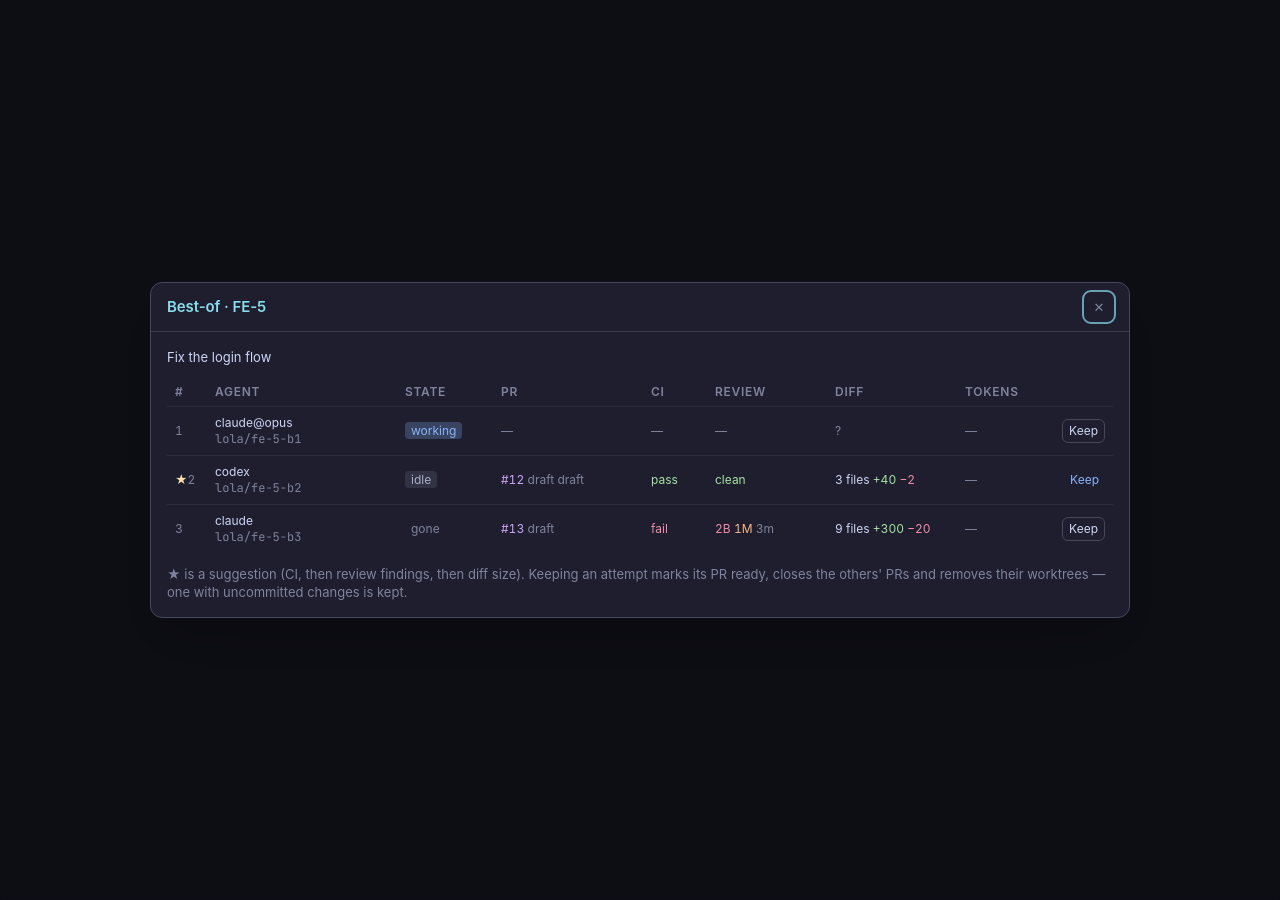
Test: BestOfOverlay › lists the steps a pick could not complete instead of claiming success
Expected: the text "claude@opus" is shown, [215,415,292,430]
Click the button "Keep" in the row of "codex" at {"x": 1085, "y": 480}, box [1064,468,1105,492]
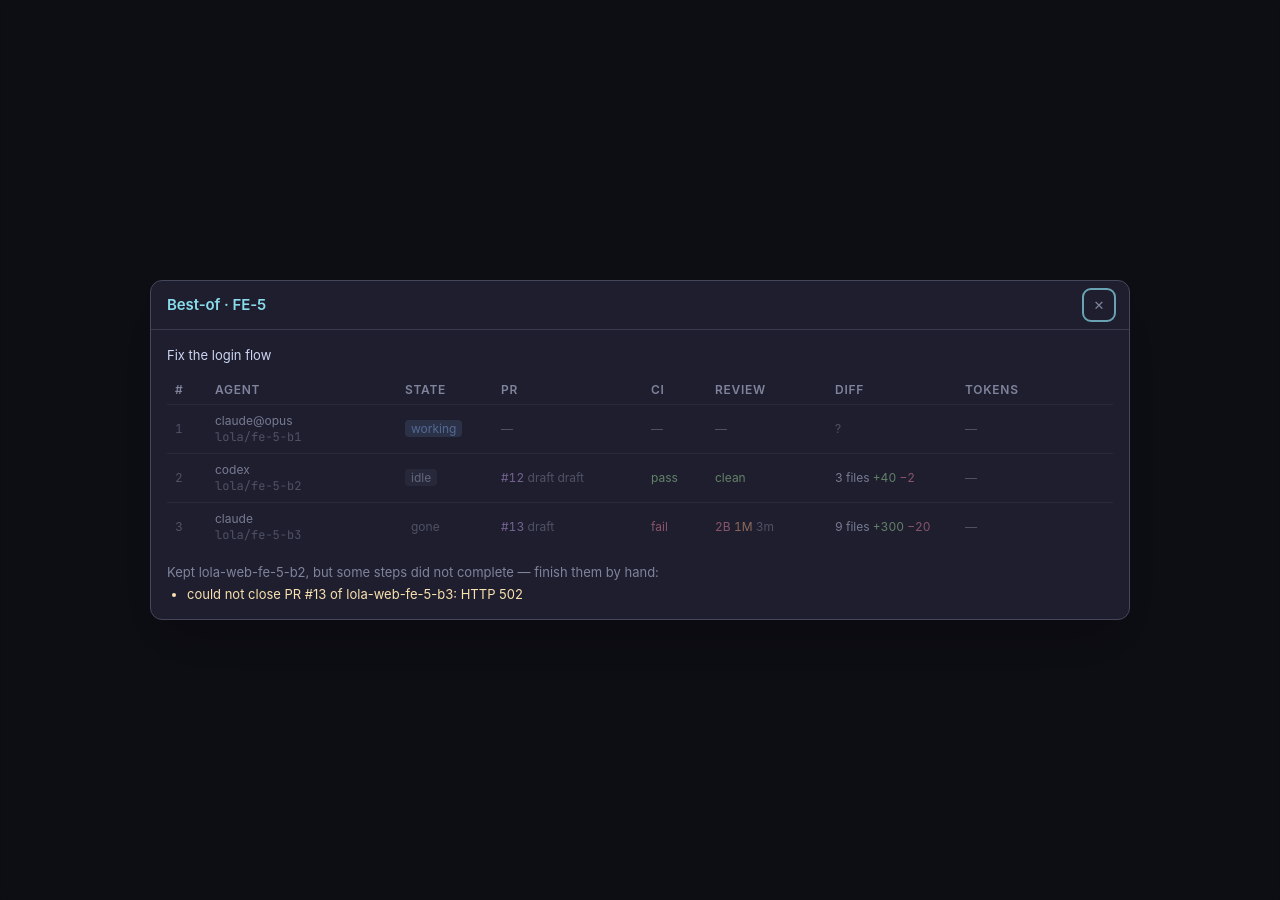
Expected: the list item "could not close PR #13 of lola-web-fe-5-b3: HTTP 502" is shown, [187,586,523,602]
Expected: the text "some steps did not complete" is shown, [167,564,659,580]
